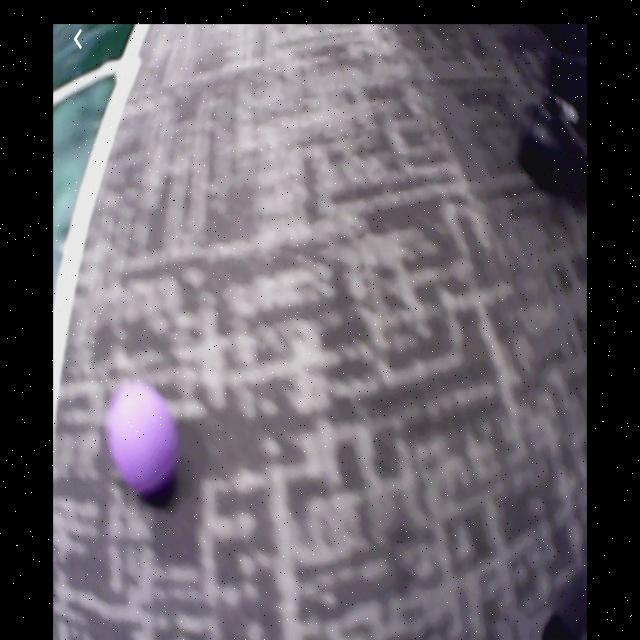ball: (108, 384, 179, 495)
